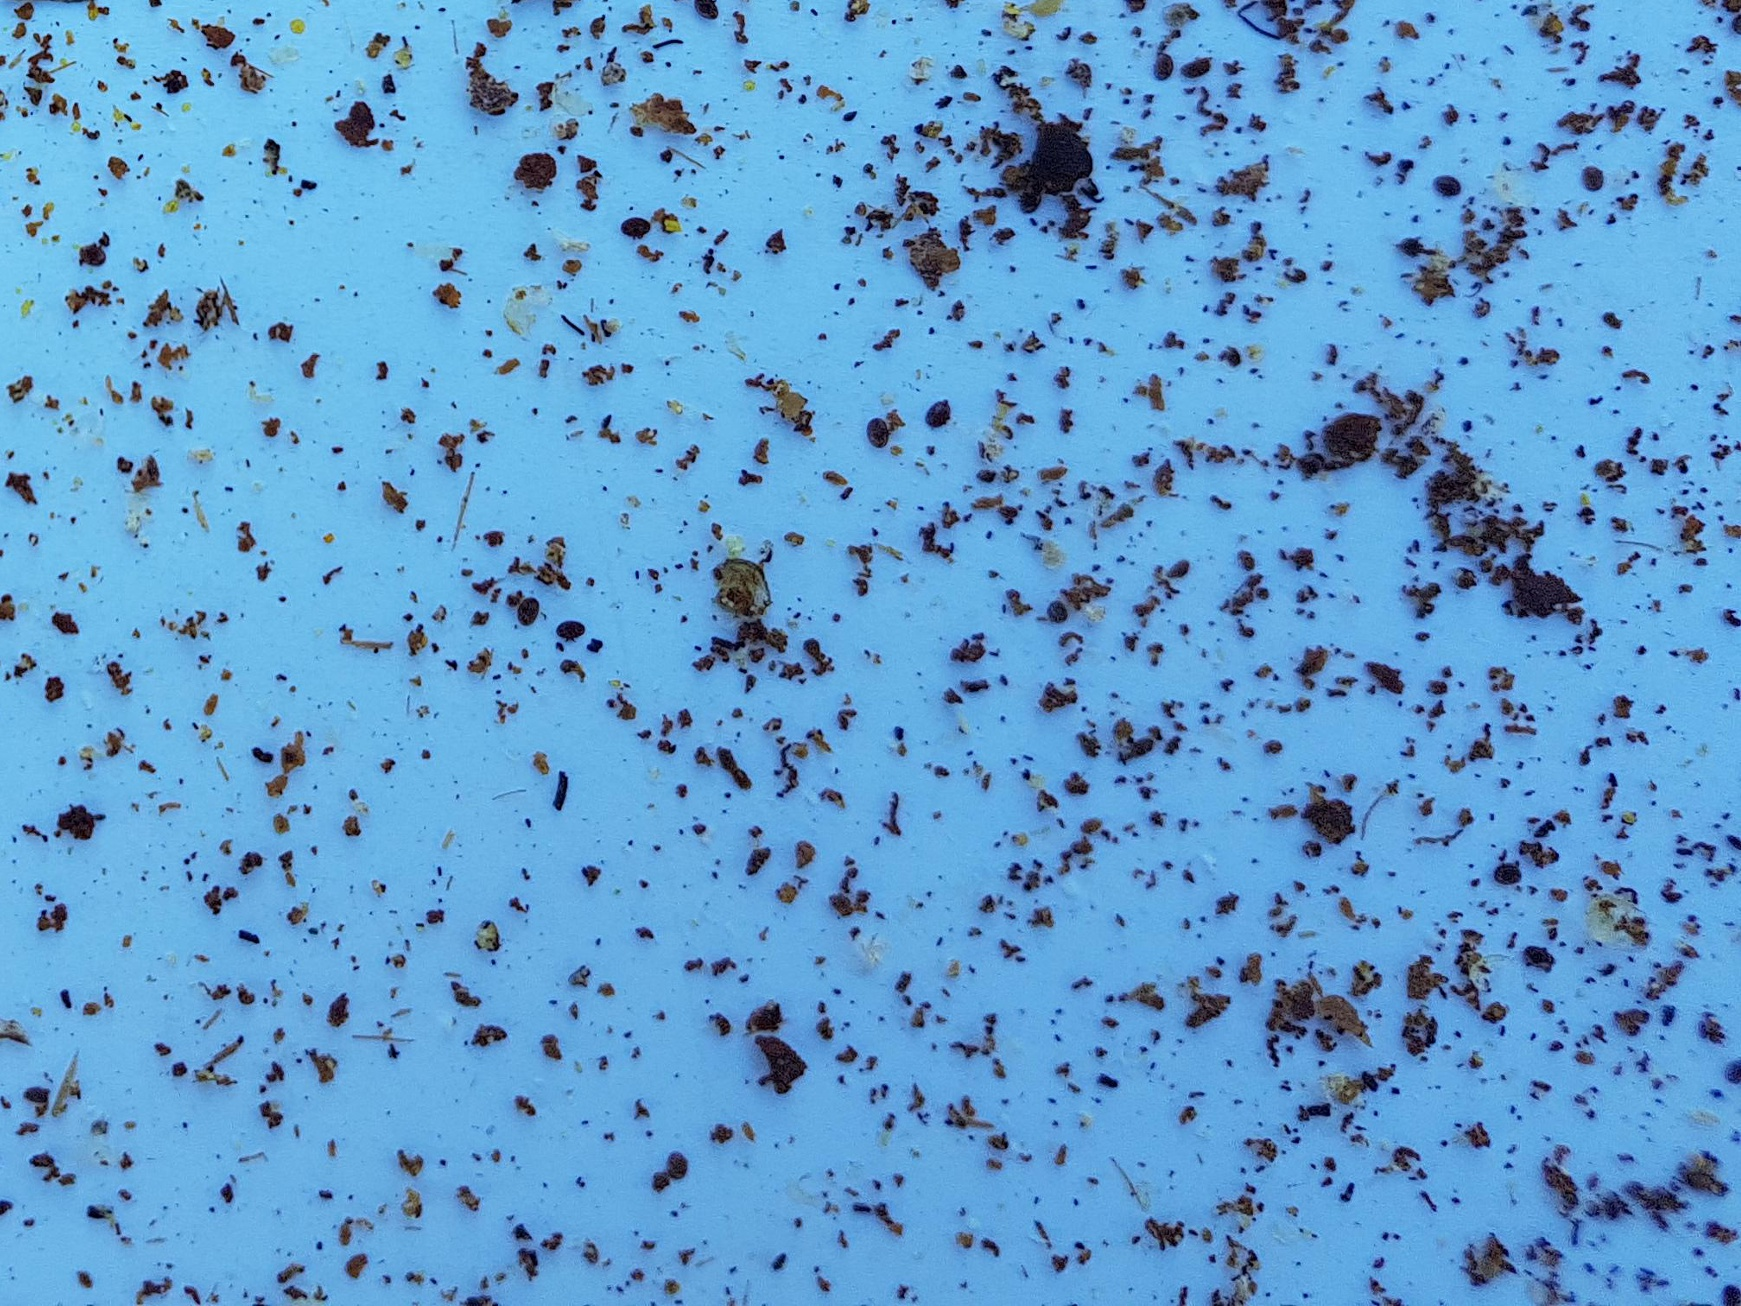Varroa: (1010, 182, 1050, 222), (1572, 156, 1611, 196), (1039, 593, 1077, 632), (1144, 48, 1183, 86), (74, 236, 112, 274), (660, 1150, 693, 1185), (922, 399, 954, 432), (1425, 176, 1457, 209), (860, 417, 890, 449), (513, 591, 543, 621), (620, 215, 648, 246), (556, 612, 583, 641), (1500, 856, 1526, 882)
